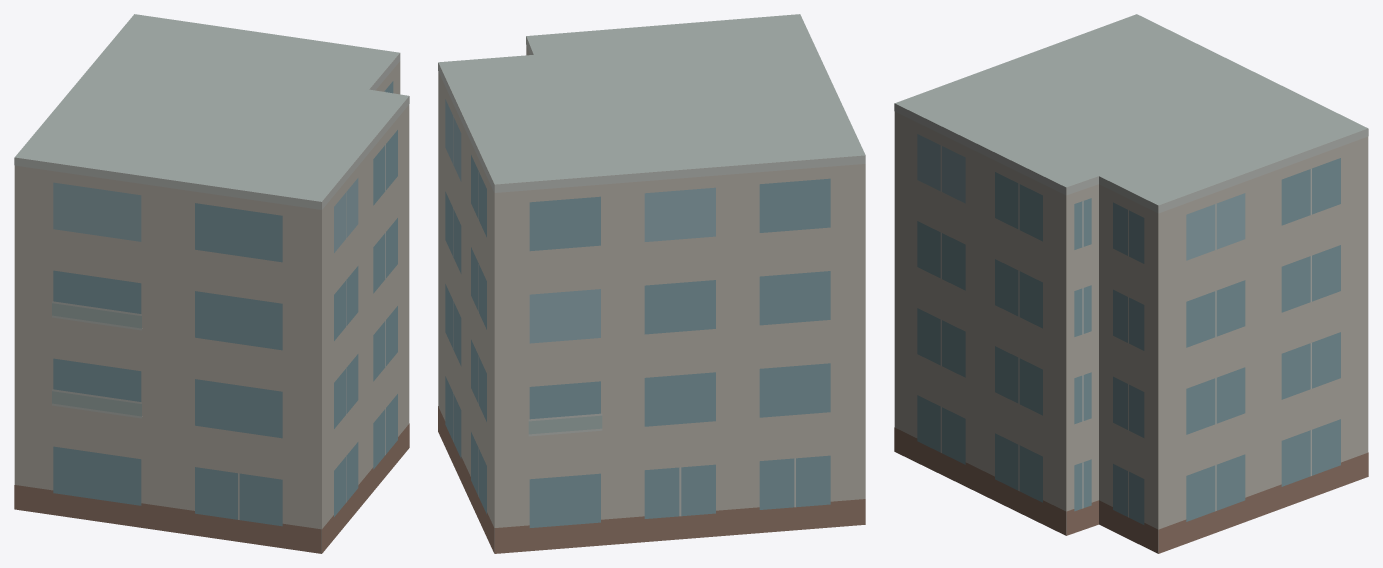
File: survey-upis-32629887.glb
3 renders of one model, left to right at view 1: azimuth 30°, elevation 25°; view 2: azimuth 150°, elevation 25°; view 3: azimuth 270°, elevation 25°, orthographic. The views are drawn at different scales.
Visible parts, largest first — view 1: survey-upis-32629887.tmp; view 2: survey-upis-32629887.tmp; view 3: survey-upis-32629887.tmp.
Boxes of the visible parts, x1,y1,x2,y2 form: survey-upis-32629887.tmp: (14, 14, 409, 553); survey-upis-32629887.tmp: (438, 14, 865, 553); survey-upis-32629887.tmp: (894, 14, 1368, 553).
Bounding box in the file's own units: 12.57 × 10.65 × 13.14.
